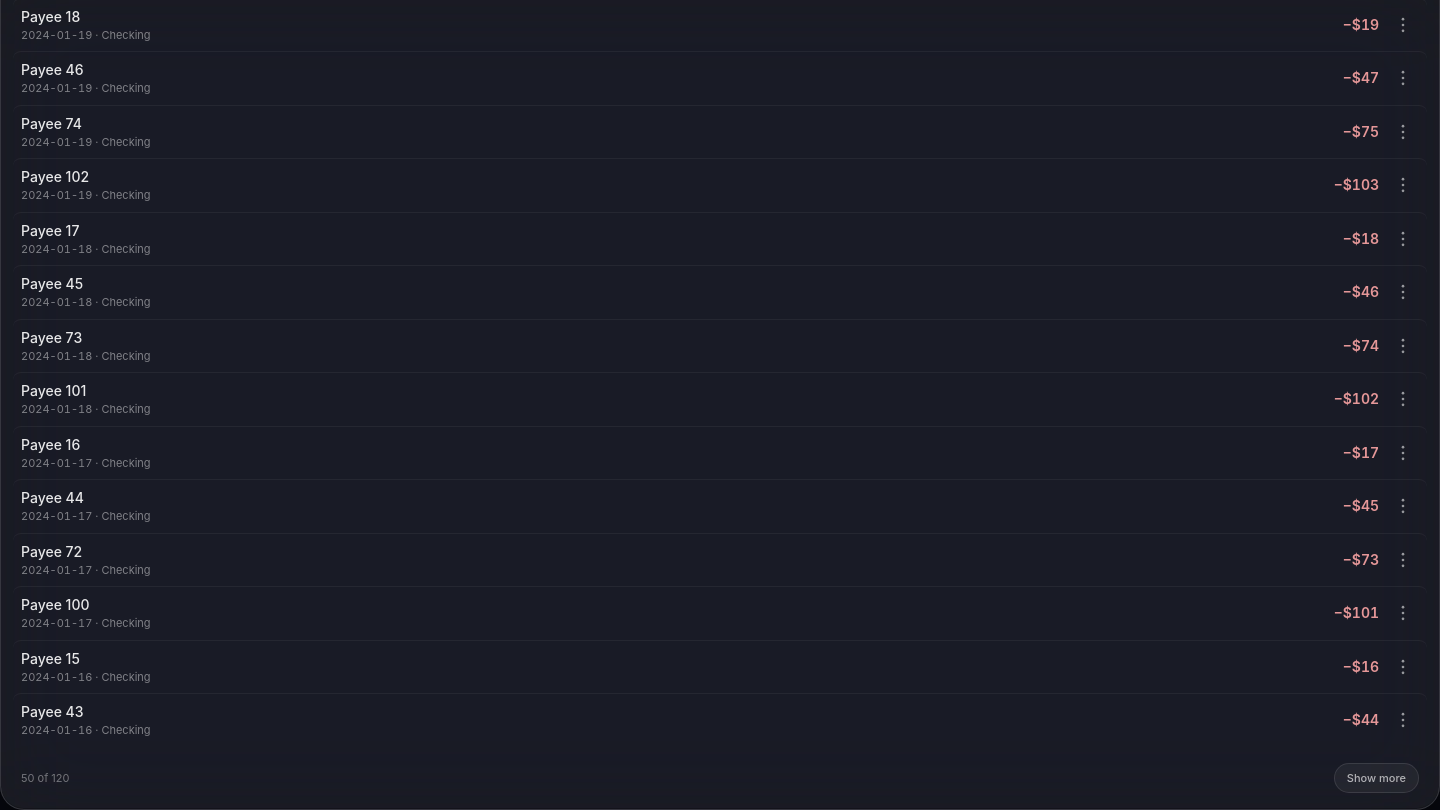
Scenario: TransactionsSection › shows an accurate 'N of total' count indicator
(page scrolled)
Expected: the text "50 of 120" is shown, x1=21 y1=770 x2=70 y2=786
Click the button "Show more": (1376, 778) x1=1334 y1=762 x2=1419 y2=793
(page scrolled)
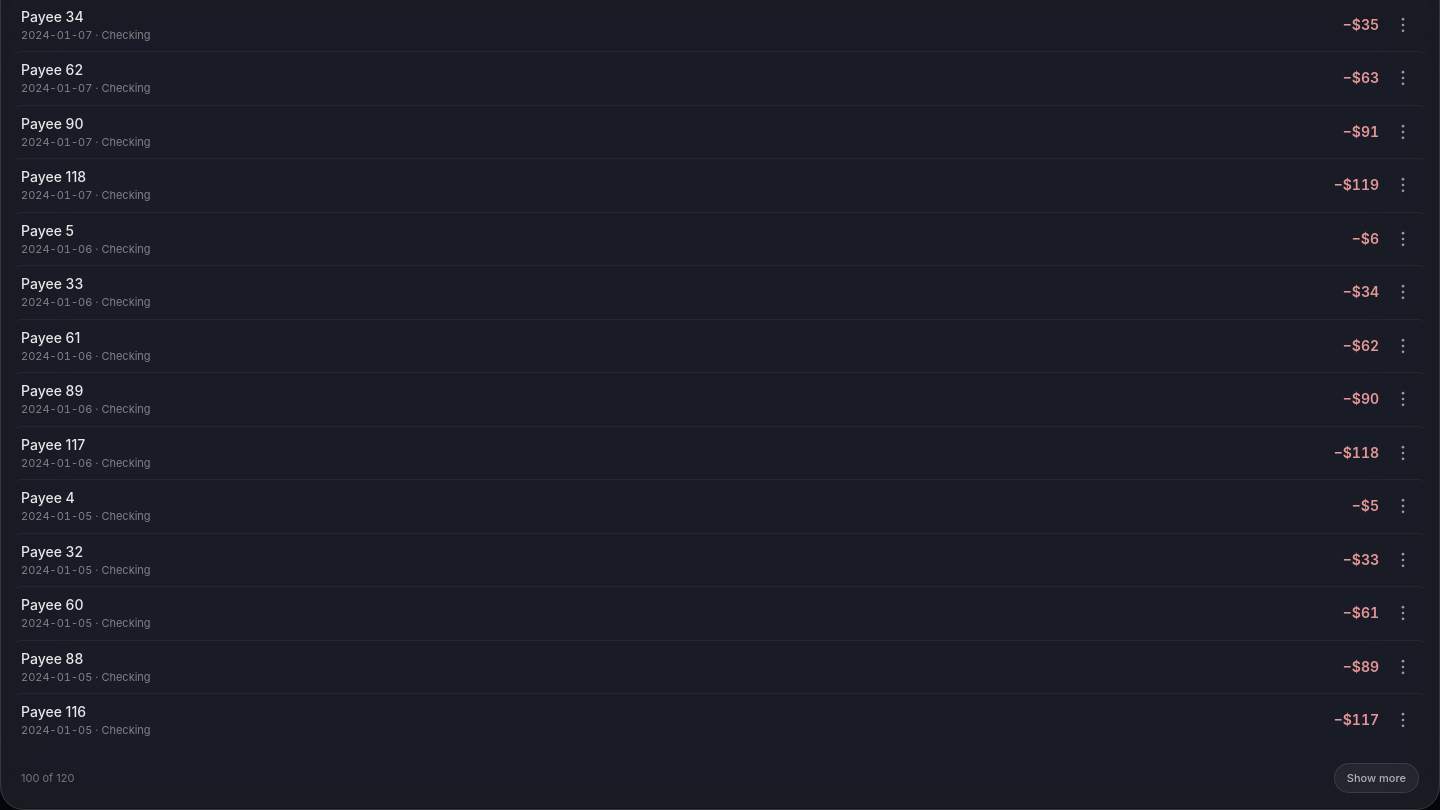
Expected: the text "100 of 120" is shown, x1=21 y1=770 x2=74 y2=786
